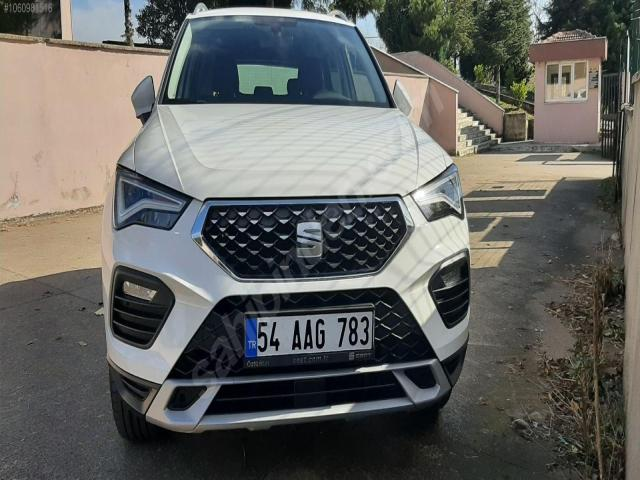plaka: (245, 308, 374, 367)
